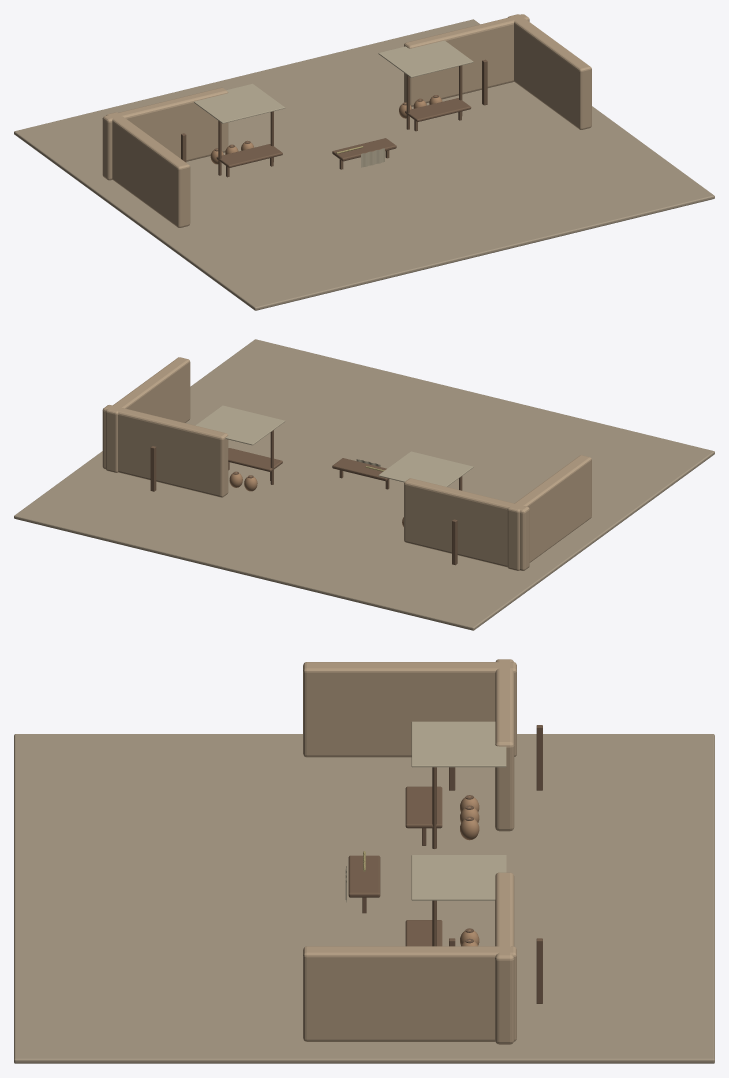
File: market.glb
3 views of the same model, one above another, from view 1: azimuth 30°, elevation 25°; view 2: azimuth 150°, elevation 25°; view 3: azimuth 270°, elevation 25° (orthographic). The views are drawn at different scales.
Visible parts, largest first — view 1: Market courtyard, Side facade, Side facade.001, Low market wall.001, Low market wall, Canopy.001, Canopy, Trading table, Trading table.001, Goods table; view 2: Market courtyard, Low market wall.001, Low market wall, Side facade, Side facade.001, Canopy.001, Canopy, Trading table.001, Goods table; view 3: Market courtyard, Side facade.001, Side facade, Canopy, Canopy.001, Low market wall.001, Low market wall, Trading table, Goods table, Trading table.001.
Boxes of the visible parts, x1,y1,x2,y2 form: Market courtyard: (14,19,714,310); Side facade: (106,112,190,227); Side facade.001: (508,14,591,129); Low market wall.001: (404,14,529,106); Low market wall: (102,87,228,180); Canopy.001: (378,40,473,77); Canopy: (194,83,285,123); Trading table: (216,144,282,167); Trading table.001: (405,98,471,121); Goods table: (332,138,396,161); Market courtyard: (14,339,714,630); Low market wall.001: (102,405,228,497); Low market wall: (404,478,529,570); Side facade: (507,455,591,570); Side facade.001: (105,357,190,472); Canopy.001: (195,405,285,445); Canopy: (378,451,473,486); Trading table.001: (228,448,282,471); Goods table: (332,458,388,481); Market courtyard: (14,734,714,1063); Side facade.001: (303,946,516,1041); Side facade: (303,662,516,757); Canopy: (411,721,506,767); Canopy.001: (411,855,506,900); Low market wall.001: (495,872,514,1044); Low market wall: (495,659,514,831); Trading table: (405,786,442,828); Goods table: (348,855,380,897); Trading table.001: (405,920,442,946).
Size of the model in its own units: 22 by 2.96 by 20.
